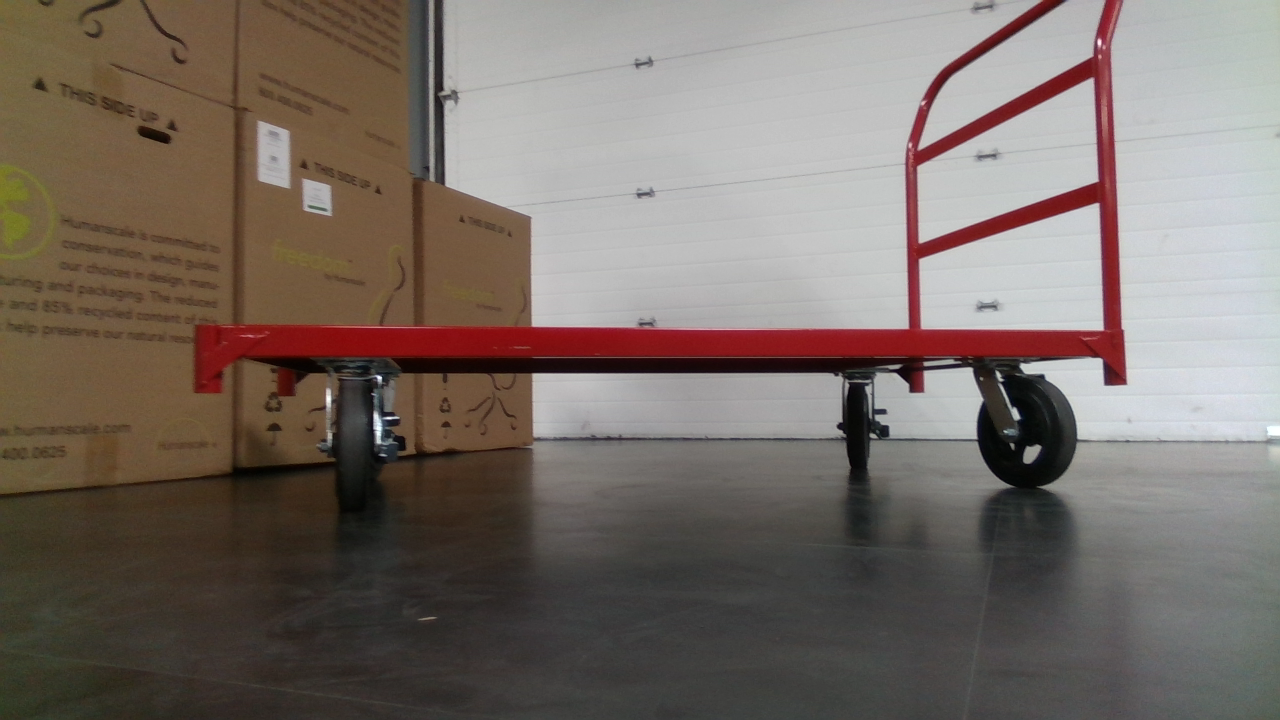Dolly: (189, 0, 1159, 525)
Wheel: (973, 380, 1077, 491), (327, 375, 383, 518), (835, 386, 887, 470)
